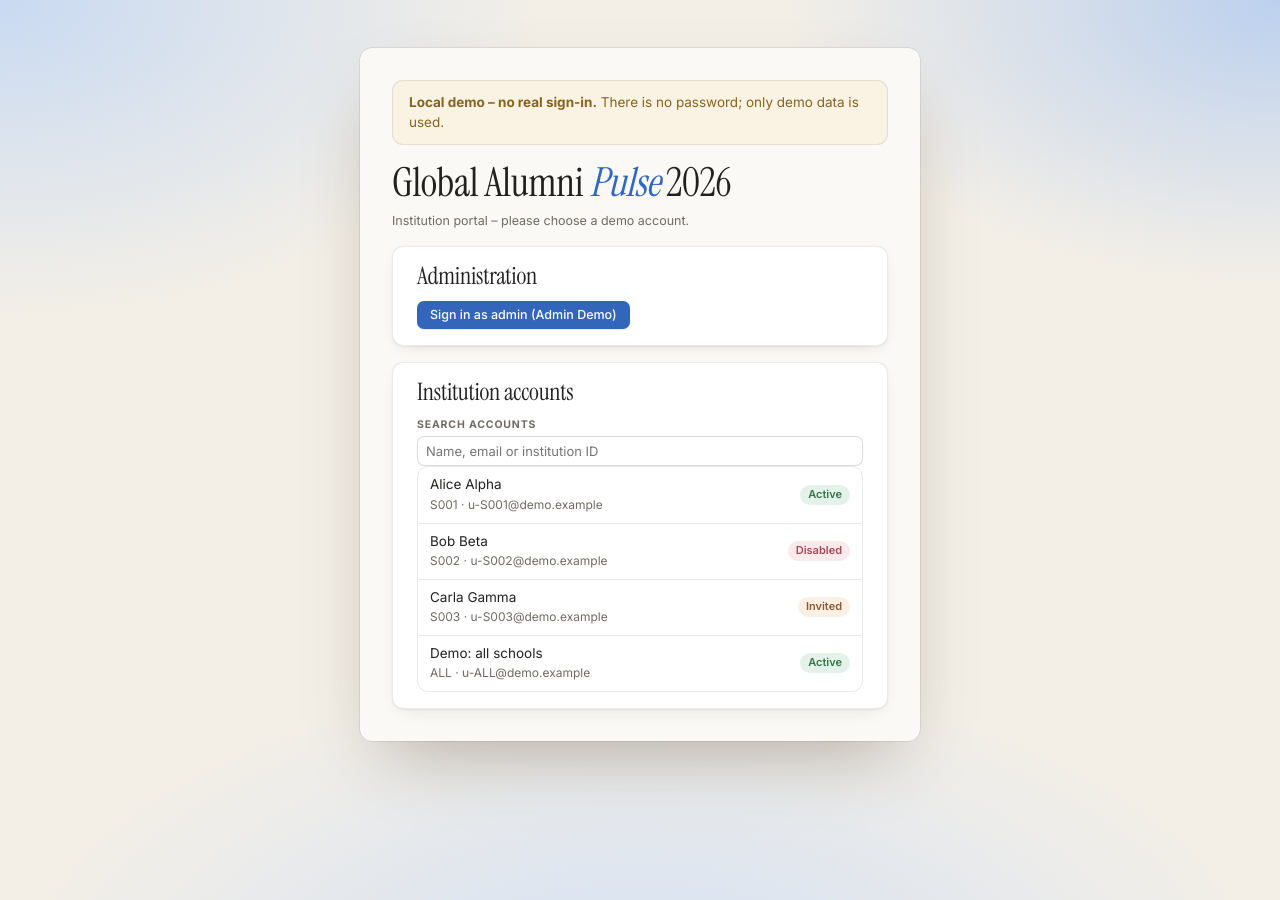
Test: Login › zeigt bei deaktiviertem Account eine verständliche Meldung
Click the button "Bob Beta". click: (459, 541)
box: x1=418 y1=524 x2=862 y2=579
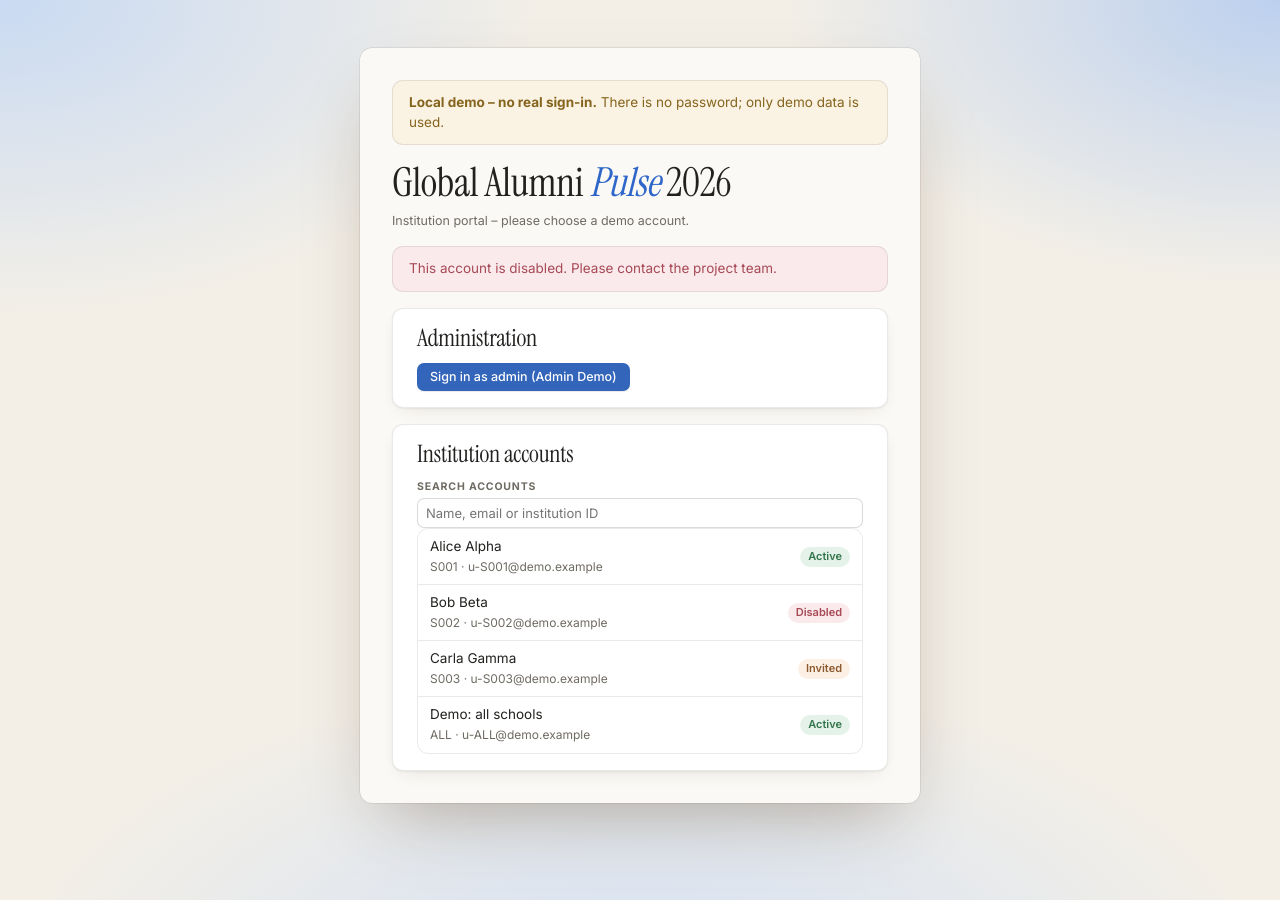
Check: the message shows "This account is disabled", box x1=409 y1=260 x2=777 y2=276
